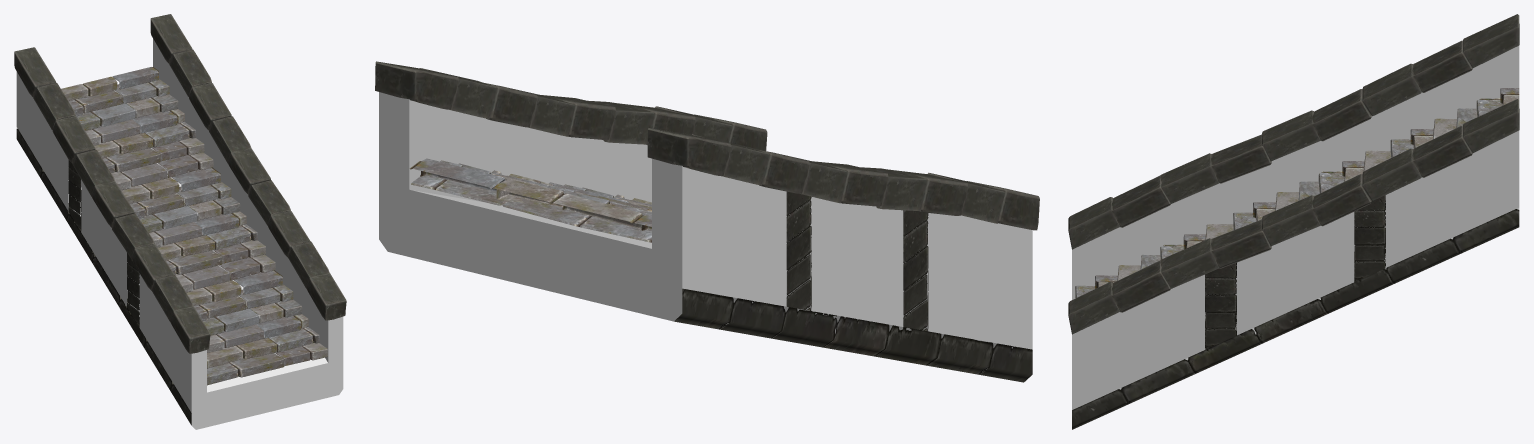
3 renders of one model, left to right at view 1: azimuth 30°, elevation 25°; view 2: azimuth 150°, elevation 25°; view 3: azimuth 270°, elevation 25°, orthographic. The views are drawn at different scales.
Parts seen in each view (by area): view 1: SM_Dowdun_Walkway_Steps_4m_02_LOD0; view 2: SM_Dowdun_Walkway_Steps_4m_02_LOD0; view 3: SM_Dowdun_Walkway_Steps_4m_02_LOD0.
Part boxes in pixels (<box>): SM_Dowdun_Walkway_Steps_4m_02_LOD0: <box>14,14,346,429</box>; SM_Dowdun_Walkway_Steps_4m_02_LOD0: <box>375,61,1039,382</box>; SM_Dowdun_Walkway_Steps_4m_02_LOD0: <box>1068,14,1519,429</box>.
Bounding box in the file's own units: 5.22 × 7.96 × 10.09.
Materials: 4 (3 with a texture image).
